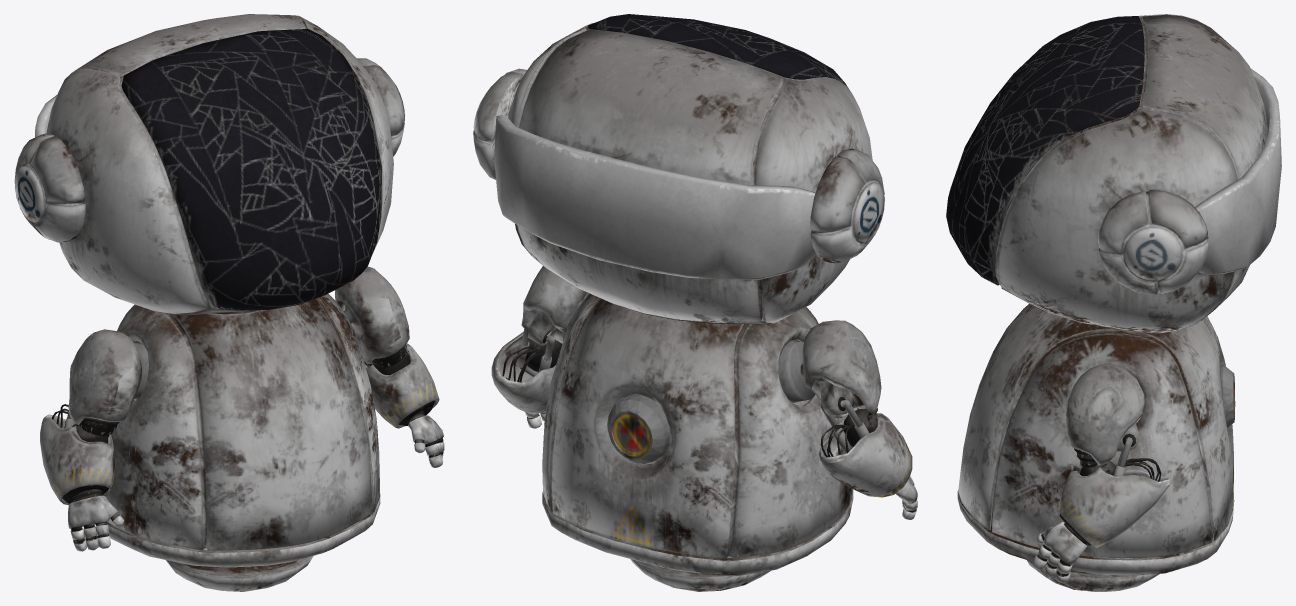
The model's file is robot13654.obj.
The picture shows the model from 3 angles, left to right: view 1: azimuth 30°, elevation 25°; view 2: azimuth 150°, elevation 25°; view 3: azimuth 270°, elevation 25°; orthographic projection. The views are drawn at different scales.
Parts seen in each view (by area): view 1: white_body_Untitled; view 2: white_body_Untitled; view 3: white_body_Untitled.
Part boxes in pixels (x1,y1,x2,y2): white_body_Untitled: (14,14,444,591); white_body_Untitled: (473,14,917,591); white_body_Untitled: (946,14,1281,591).
Size of the model in its own units: 1.56 by 2.05 by 1.19.
